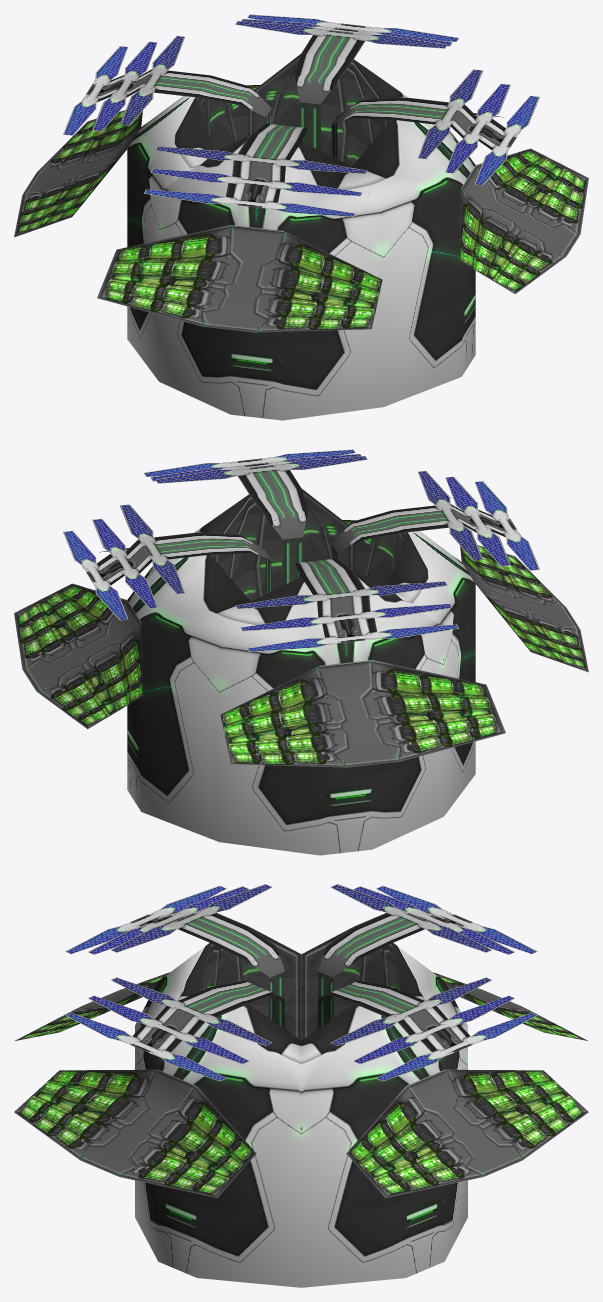
The model's file is ComederoHerb.fbx.
3 renders of one model, top to bottom at view 1: azimuth 30°, elevation 25°; view 2: azimuth 150°, elevation 25°; view 3: azimuth 270°, elevation 25°, orthographic.
Visible parts, largest first — view 1: Cylinder; view 2: Cylinder; view 3: Cylinder.
Part boxes in pixels (x1,y1,x2,y2): Cylinder: (14, 14, 588, 420); Cylinder: (14, 449, 588, 855); Cylinder: (14, 884, 588, 1287).
Bounding box in the file's own units: 5.43 × 2.87 × 5.43.
1 material, 1 textured.
